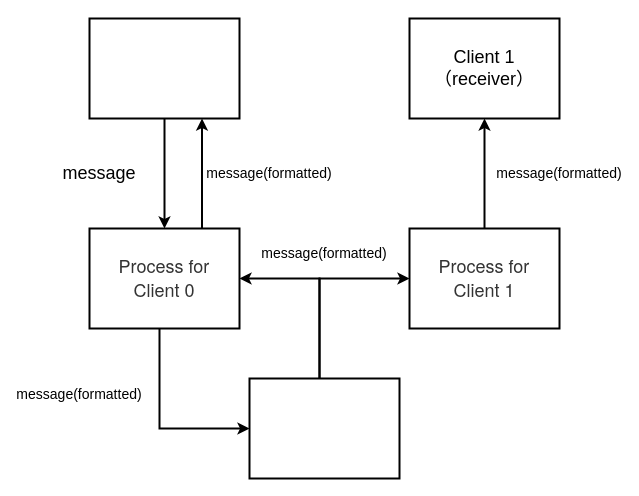
Image size: 639x496. Some labels were removed from this diagram. The shapes that lost their labels are listed below. From the top down, each one's centre as x and y in pixels, then its label:
point 164,68: Client 0 （sender）
point 324,428: Clients Manager
